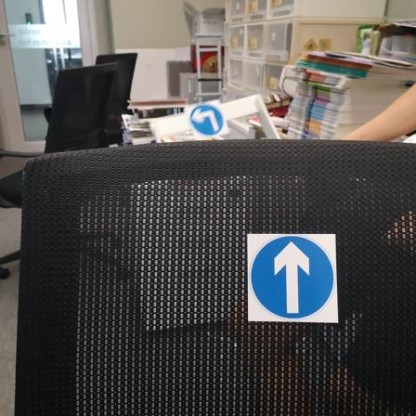forward: (246, 232, 337, 324)
